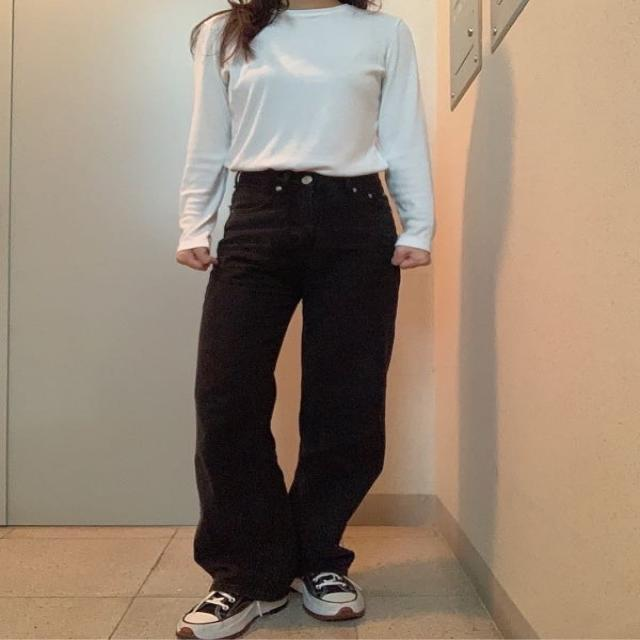cottonpants: (193, 172, 402, 602)
longsleeve: (174, 8, 431, 266)
